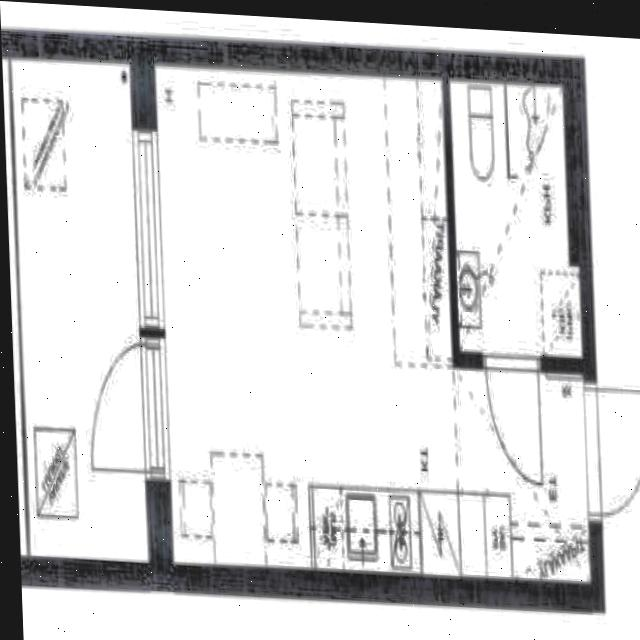room: (12, 57, 148, 564), (449, 76, 583, 362)
